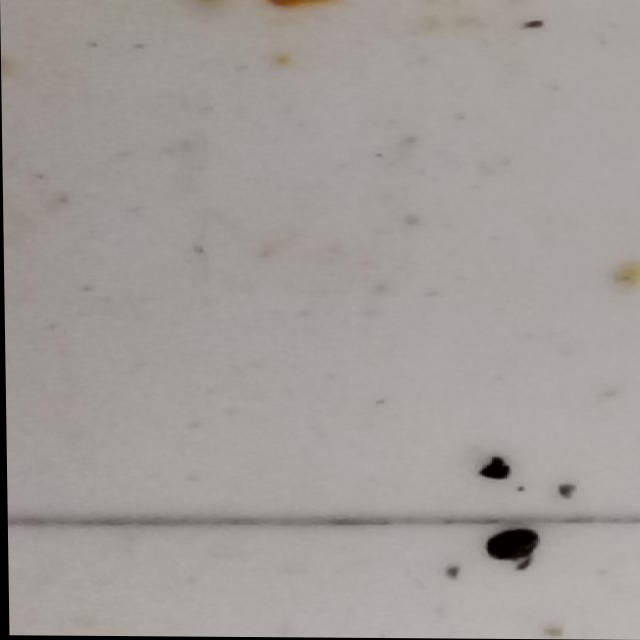varroa: (484, 528, 539, 561)
